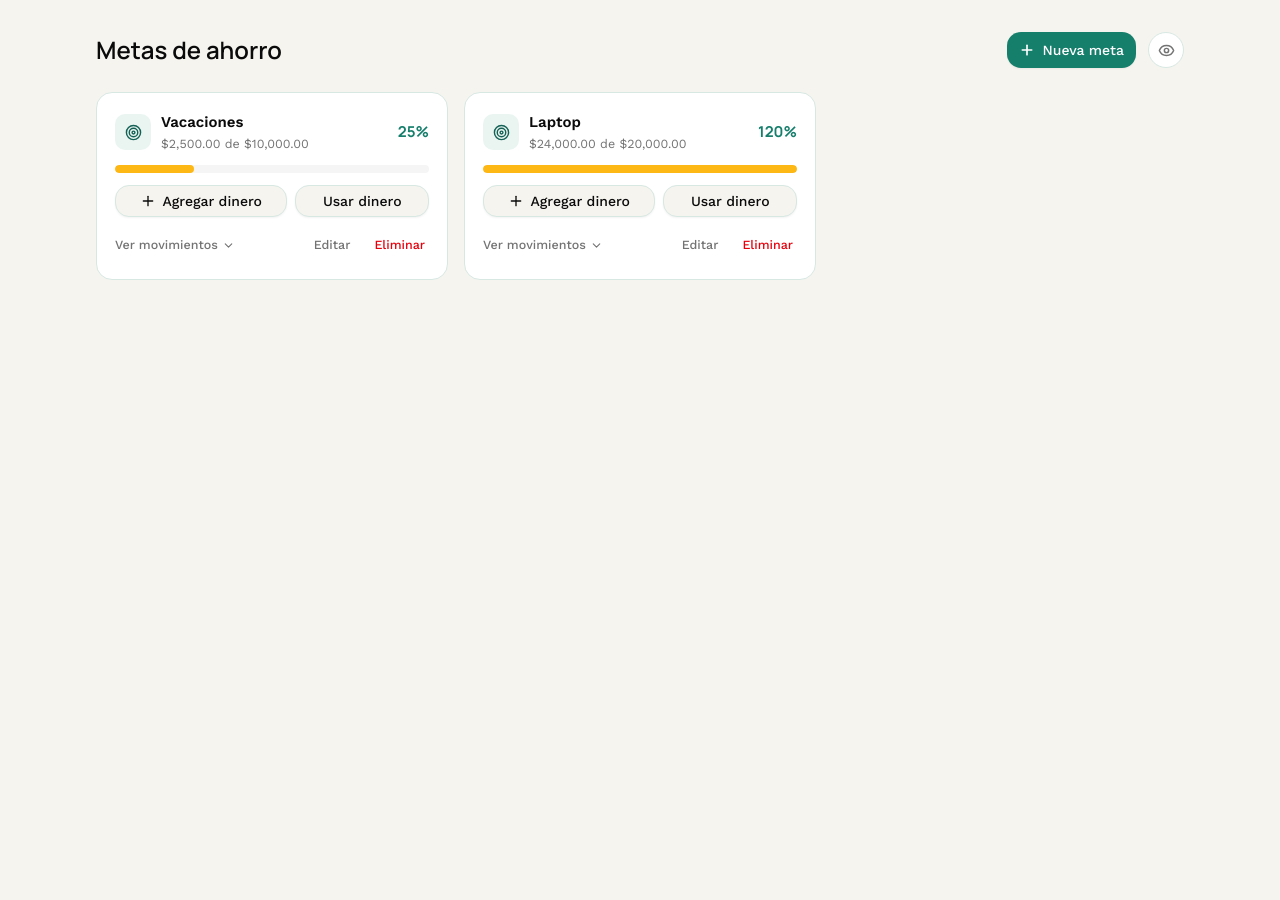
Test: Metas — crear una meta › "Cancelar" cierra la hoja sin mandar nada
This screenshot has width=1280, height=900.
Expected: the text "Vacaciones" is shown, left=161, top=113, right=243, bottom=131
Click the button "Nueva meta".
click(1071, 50)  # box left=1006, top=32, right=1136, bottom=68
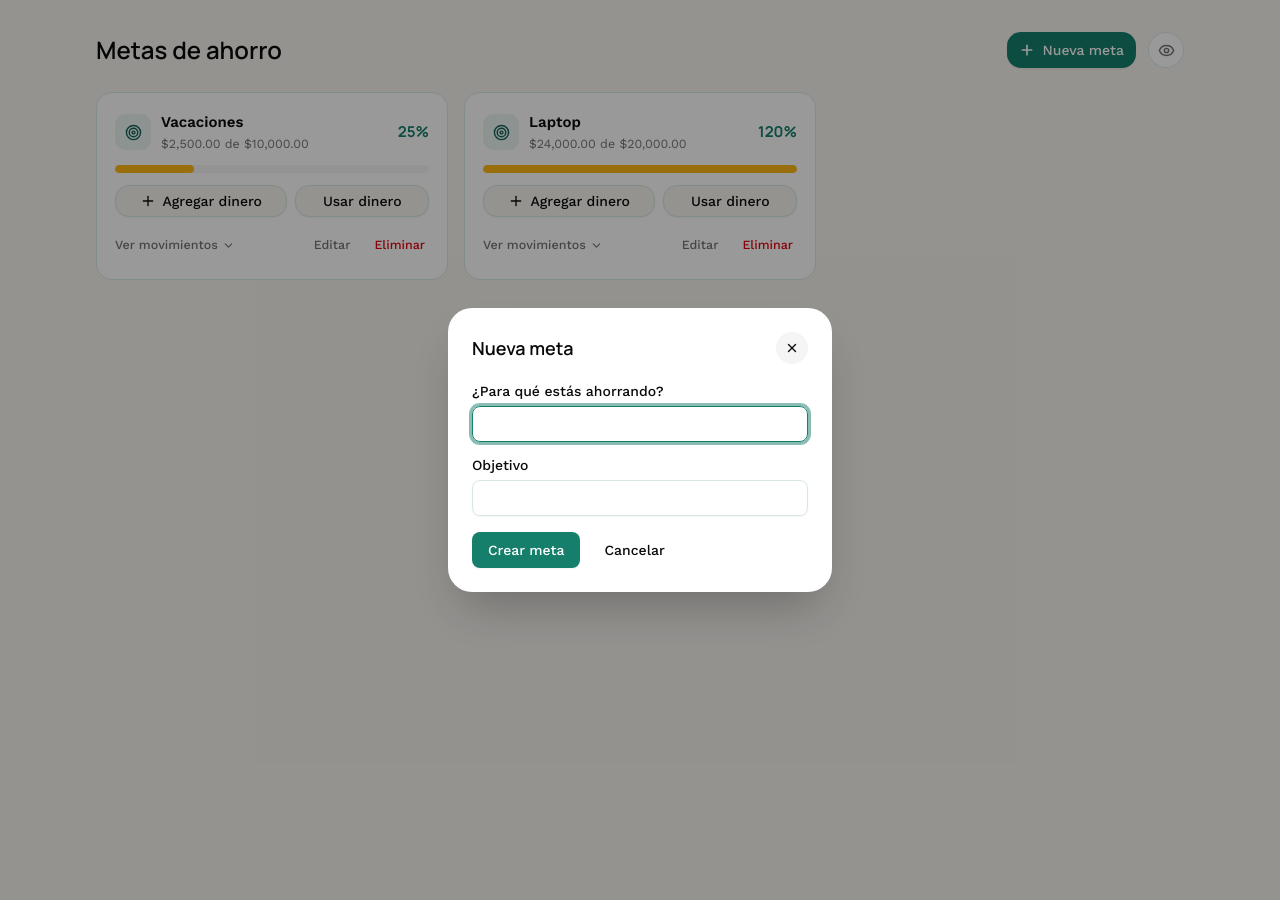
Click the button "Cancelar".
click(635, 550)  # box left=588, top=532, right=681, bottom=568
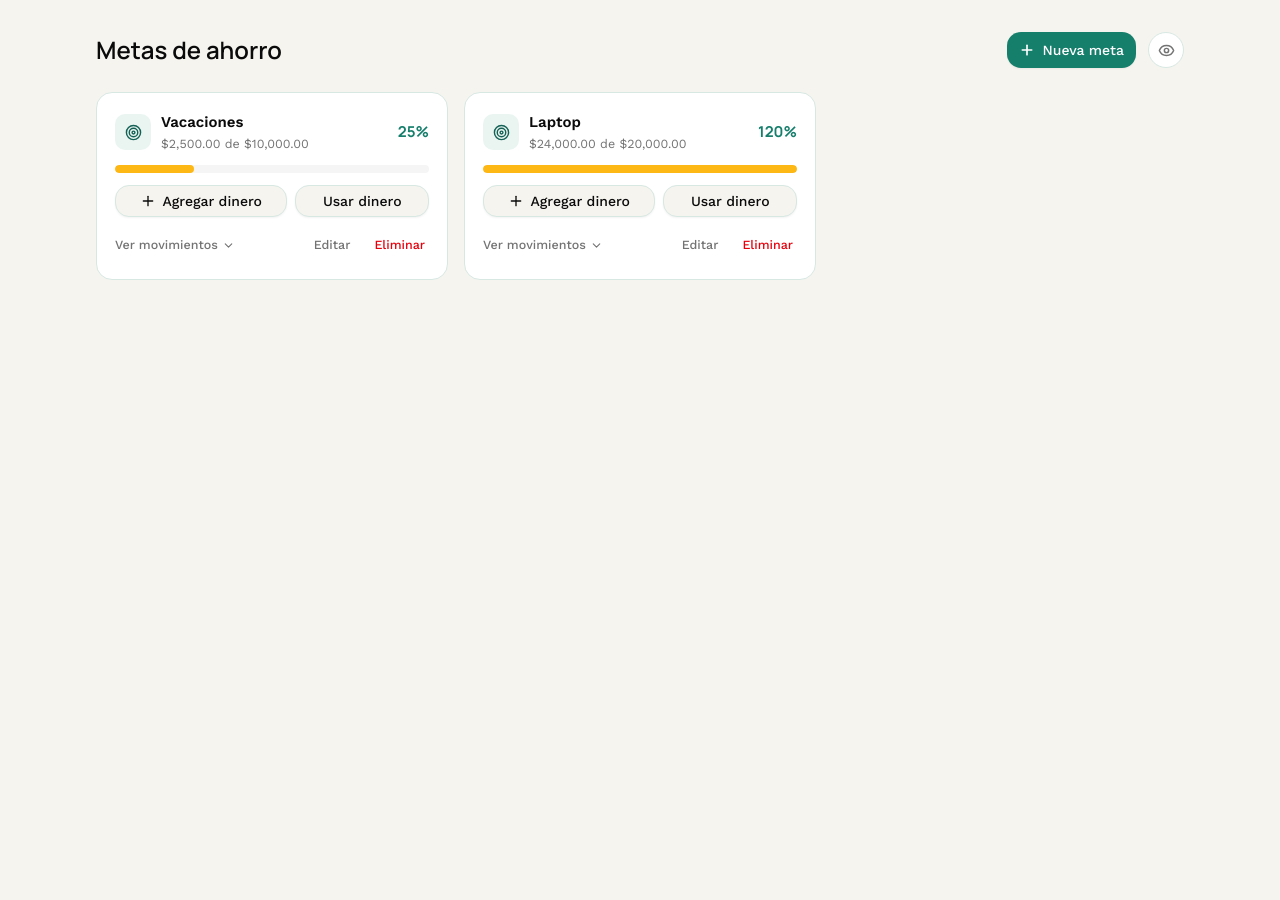
Now the dialog is gone
